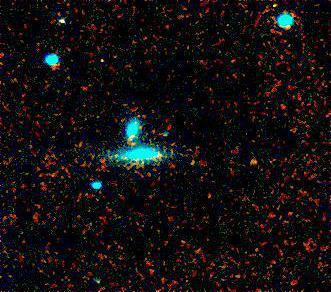star: (240, 147, 270, 177)
